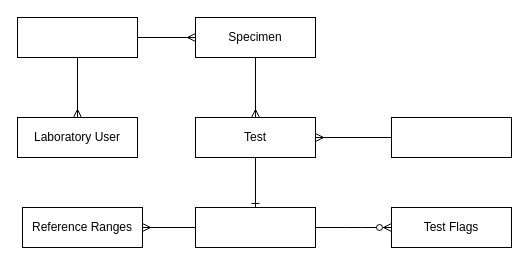
This 529x265 diagram has some shape labels left out. Each missing label, with the box of its shape:
Discipline: (390, 116, 512, 158)
Laboratory: (16, 16, 138, 58)
Test Result: (194, 206, 316, 248)
